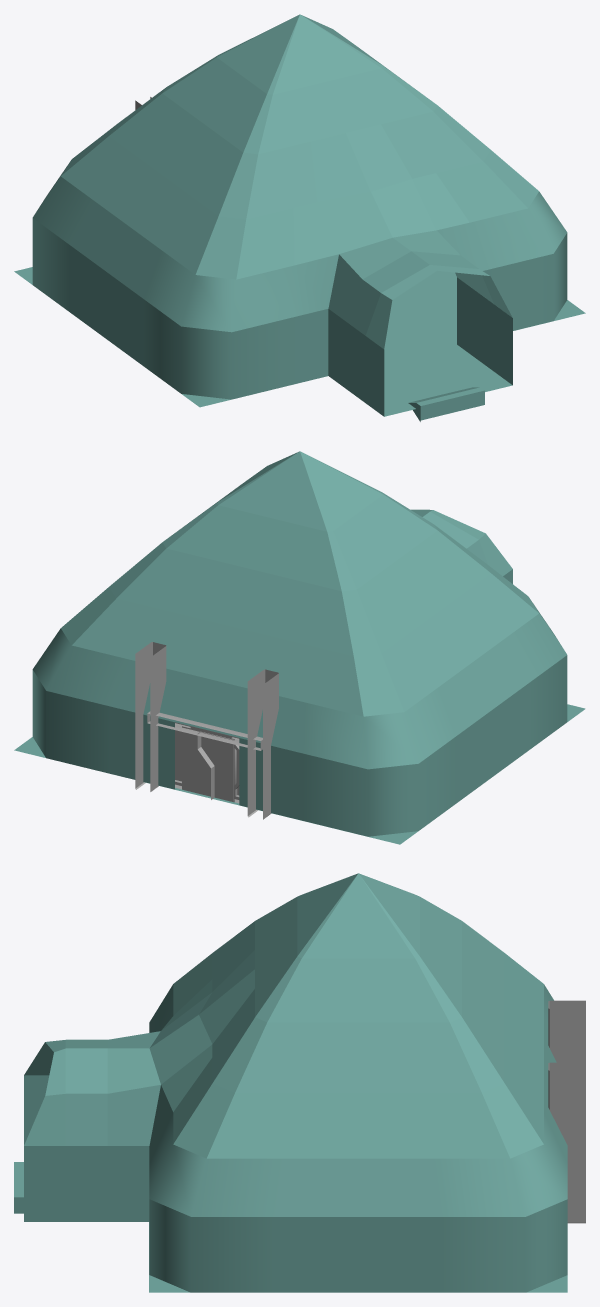
Rendered from CL_SALAPRINCIPAL.fbx.
3 renders of one model, top to bottom at view 1: azimuth 30°, elevation 25°; view 2: azimuth 150°, elevation 25°; view 3: azimuth 270°, elevation 25°, orthographic. The views are drawn at different scales.
Visible parts, largest first — view 1: polySurface22, polySurface21, polySurface23; view 2: polySurface22, polySurface21, ColumnaGrande_02, ColumnaGrande_01, polySurface37, polySurface42, polySurface45, polySurface23; view 3: polySurface22, polySurface21, ColumnaGrande_02, ColumnaGrande_01, polySurface23.
Part boxes in pixels (left/top/right/bottom): polySurface22: left=61, top=14, right=538, bottom=279; polySurface21: left=32, top=164, right=567, bottom=421; polySurface23: left=14, top=267, right=585, bottom=407; polySurface22: left=61, top=451, right=538, bottom=716; polySurface21: left=32, top=509, right=567, bottom=836; ColumnaGrande_02: left=135, top=642, right=166, bottom=791; ColumnaGrande_01: left=247, top=669, right=278, bottom=819; polySurface37: left=197, top=731, right=234, bottom=802; polySurface42: left=182, top=726, right=214, bottom=798; polySurface45: left=147, top=711, right=262, bottom=750; polySurface23: left=14, top=704, right=585, bottom=844; polySurface22: left=149, top=873, right=543, bottom=1158; polySurface21: left=14, top=984, right=567, bottom=1292; ColumnaGrande_02: left=548, top=1062, right=585, bottom=1223; ColumnaGrande_01: left=548, top=1000, right=585, bottom=1062; polySurface23: left=149, top=1222, right=567, bottom=1292.
Bounding box in the file's own units: 3563 × 2544 × 4057.
